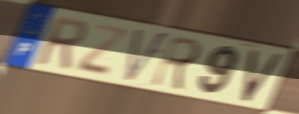9: (197, 44, 241, 96)
R: (148, 34, 204, 93), (34, 14, 89, 71)
V: (122, 27, 172, 86), (238, 48, 286, 105)
Z: (73, 22, 130, 78)
